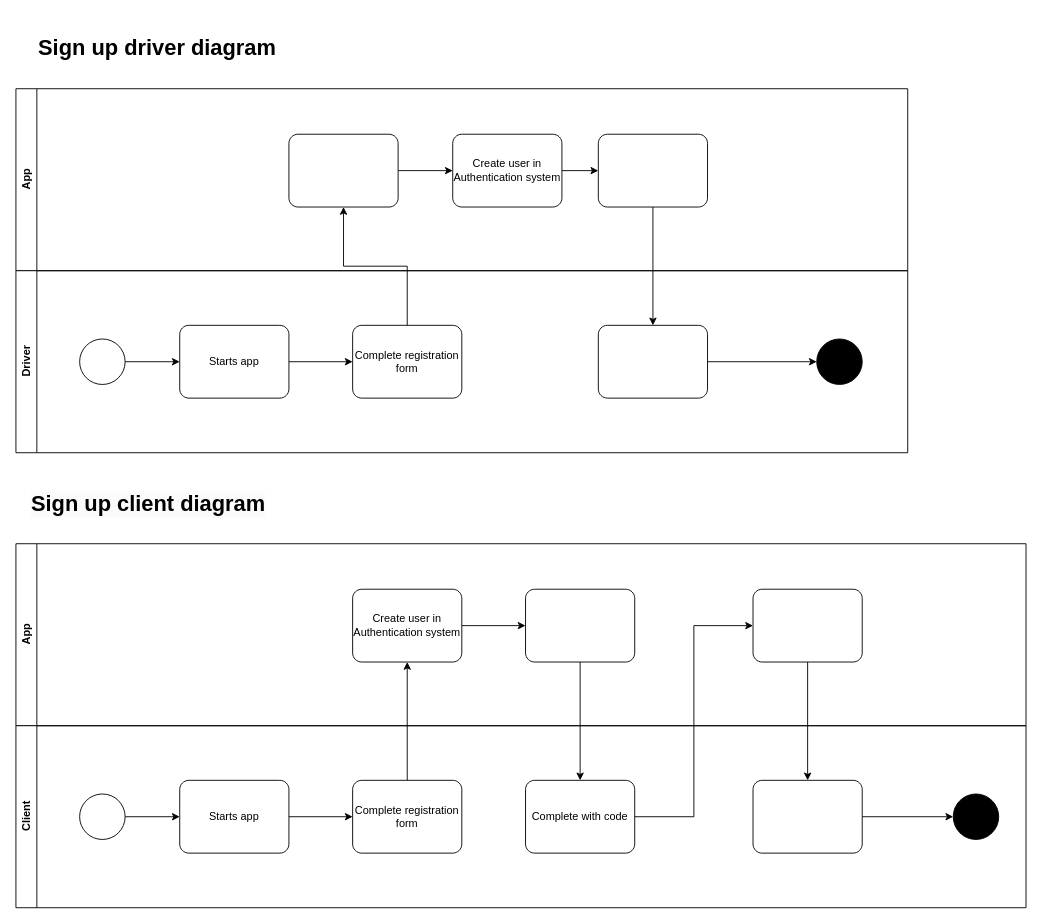
Some shapes in this 1042 by 924 pixel diagram are drawn without their labels. Here are the shapes that lost their labels. From the top down, the centre of each, then its label:
pixel 343 170: Validaciones - Verificaciones
pixel 652 170: Create driver in Data system
pixel 652 361: App is in it's main menu for driver
pixel 580 625: Send email with validation code
pixel 807 625: Create client in Data system
pixel 807 816: App is in it's main menu for client
